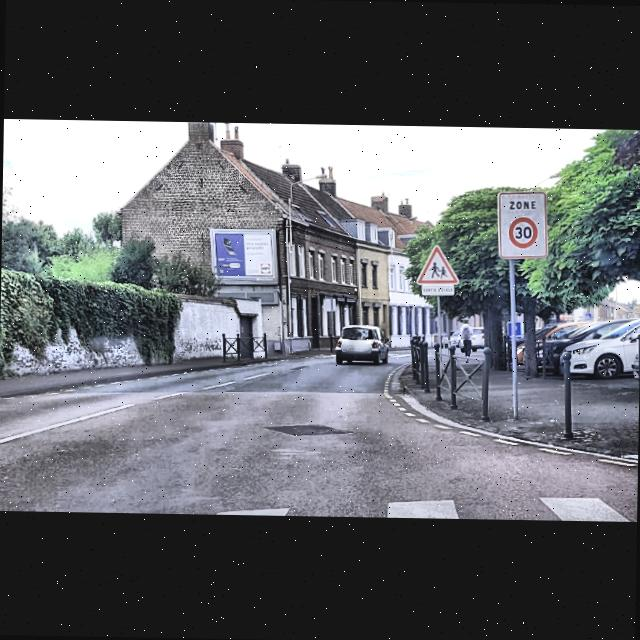speed_30: (508, 216, 538, 249)
